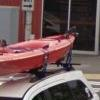Boat: (1, 30, 88, 70)
